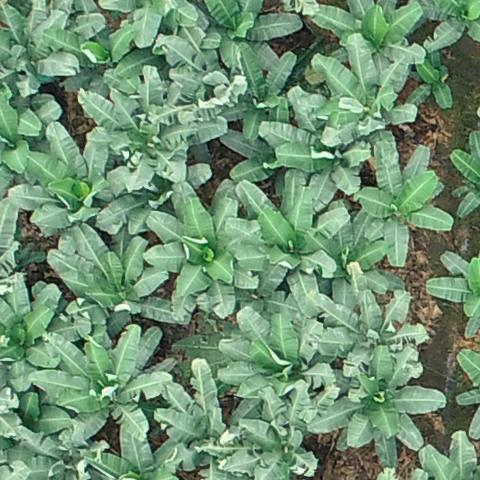Banana-plant: (82, 67, 225, 183), (230, 168, 347, 293), (149, 181, 258, 313), (314, 357, 446, 464), (37, 329, 169, 435), (54, 225, 172, 341), (256, 87, 370, 207), (311, 261, 427, 373), (312, 39, 418, 149), (360, 147, 453, 265), (226, 307, 328, 412), (10, 122, 107, 231), (0, 276, 89, 392), (160, 361, 235, 480), (92, 161, 213, 229), (308, 0, 427, 60), (4, 3, 79, 97), (200, 0, 300, 69), (50, 21, 140, 91), (5, 425, 111, 480), (0, 87, 55, 193), (226, 51, 295, 135), (170, 55, 255, 121), (232, 420, 317, 480), (88, 422, 175, 480), (225, 120, 293, 191), (428, 251, 480, 335), (419, 0, 480, 49)
